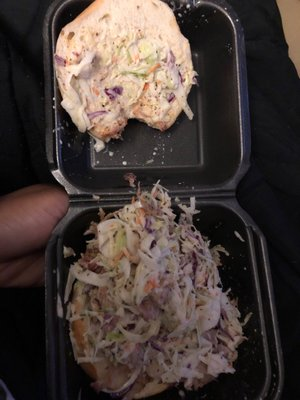sushi: (55, 197, 279, 400)
